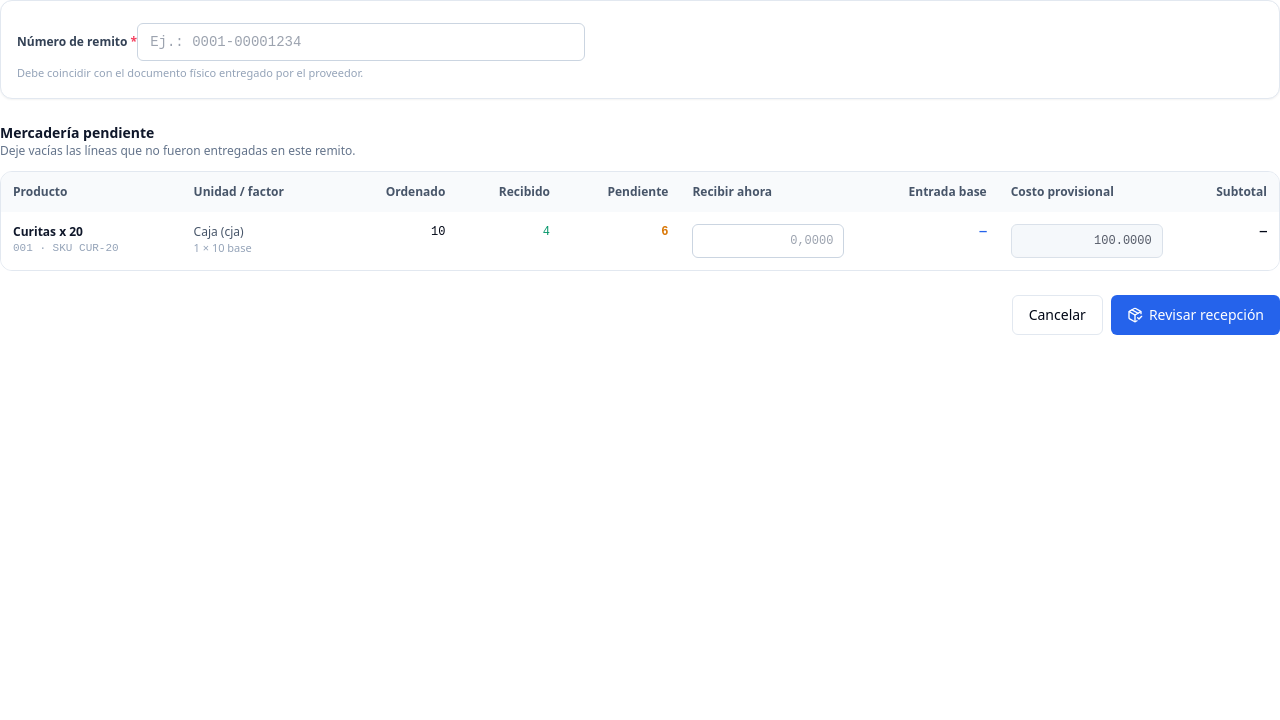
GoodsReceiptForm › refreshes and rebuilds line values after a concurrency conflict
The width and height of the screenshot is (1280, 720).
Type "0001-00001234" into the field labelled "Número de remito *". click: (361, 42)
box: top-left (137, 23), bottom-right (585, 61)
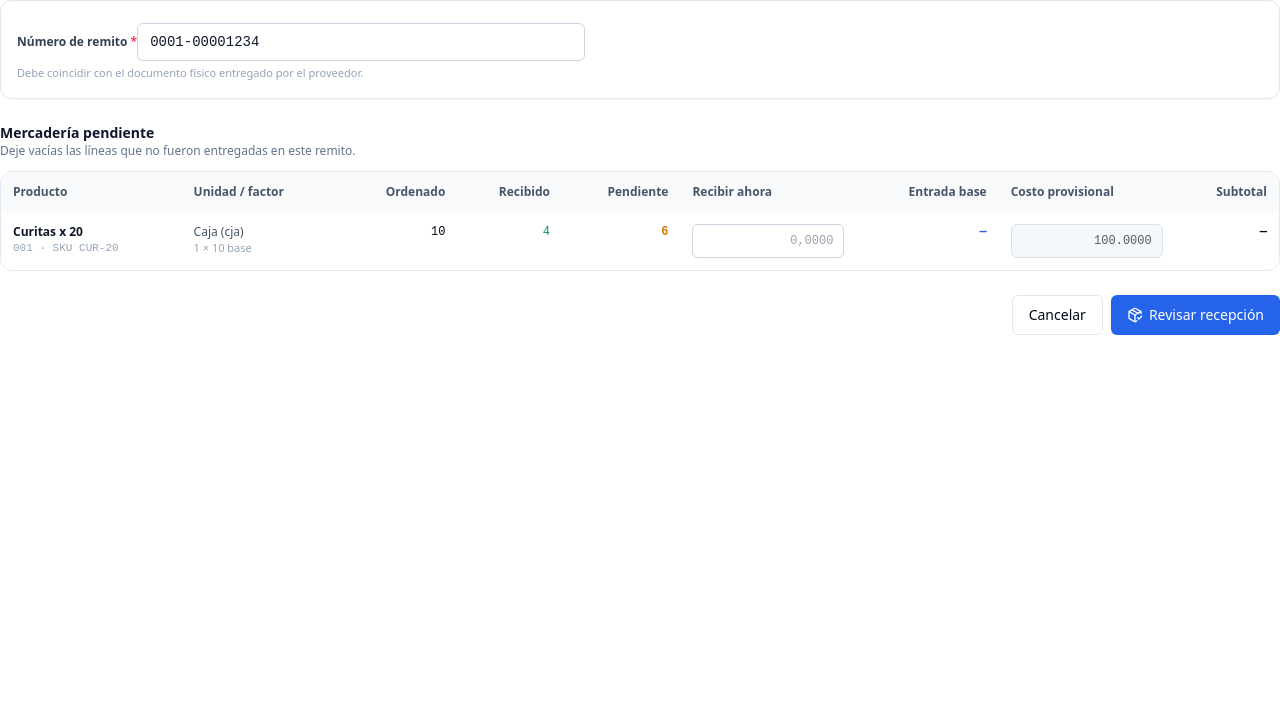
Type "2" into the field named "Cantidad a recibir de Curitas". click: (768, 240)
box: top-left (692, 224), bottom-right (844, 258)
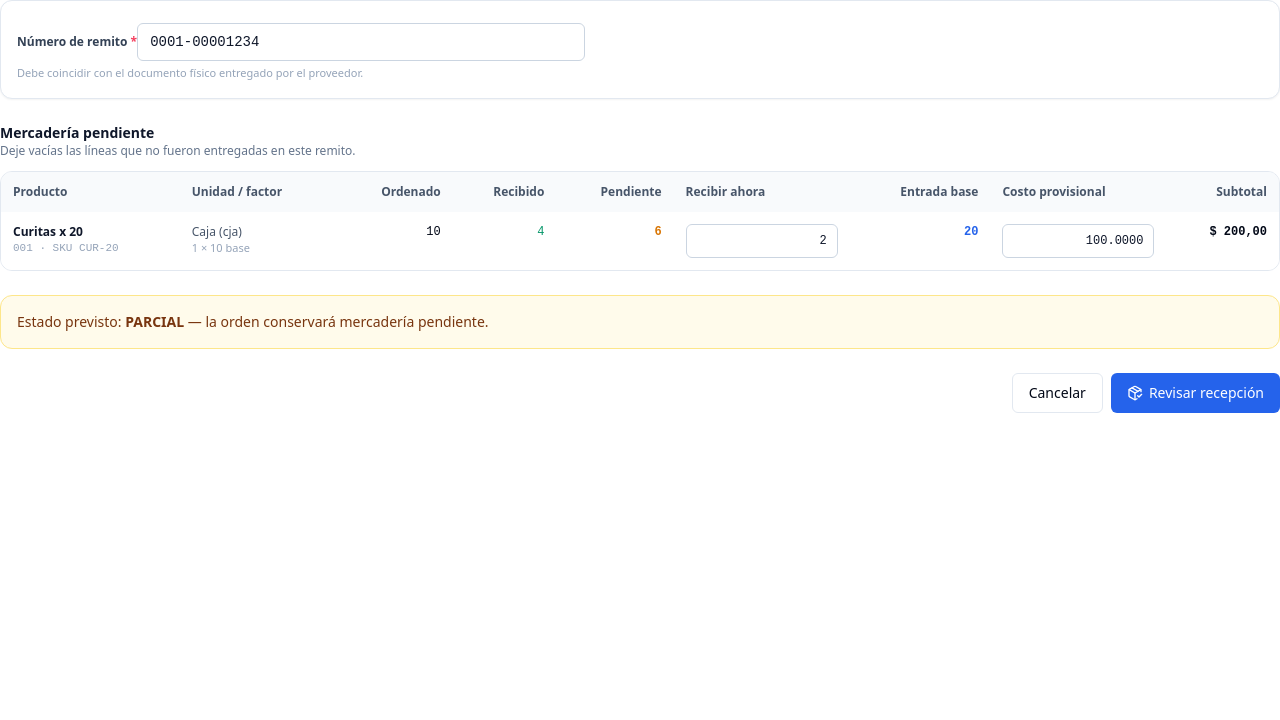
Click the button "Revisar recepción". click: (1195, 392)
box: top-left (1111, 372), bottom-right (1279, 412)
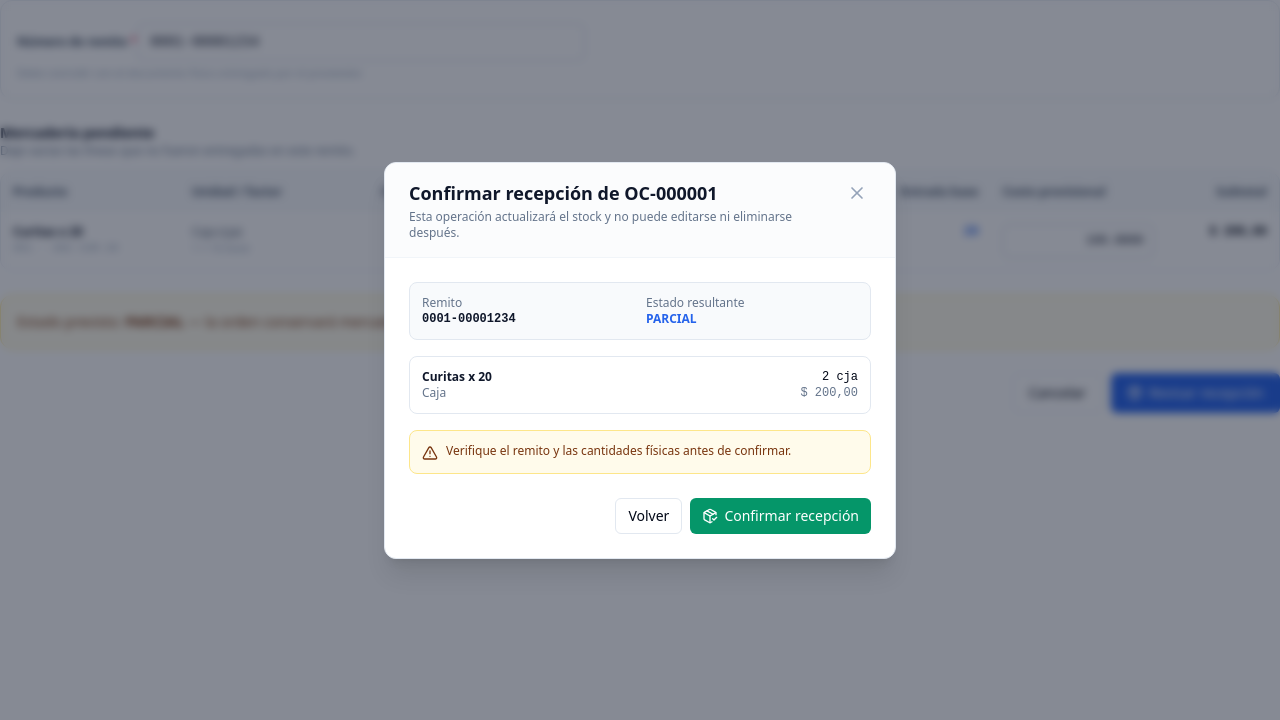
Now the dialog is shown, box top-left (384, 162), bottom-right (896, 558)
Click the button "Confirmar recepción". click: (781, 516)
box: top-left (690, 498), bottom-right (871, 534)
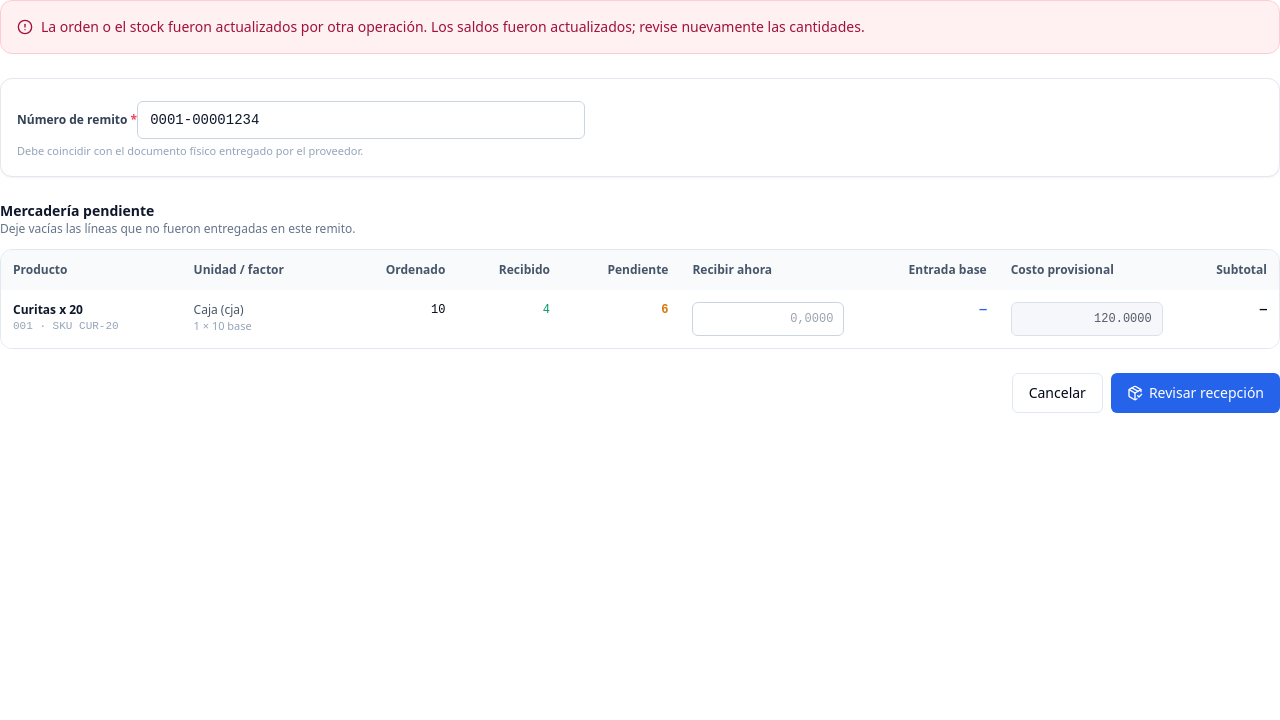
Now the text "saldos fueron actualizados" is shown, box top-left (41, 17), bottom-right (865, 36)
Now the field named "Cantidad a recibir de Curitas" is empty, box top-left (692, 302), bottom-right (844, 336)
Now the field named "Costo provisional de Curitas" holds "120.0000", box top-left (1011, 302), bottom-right (1163, 336)
